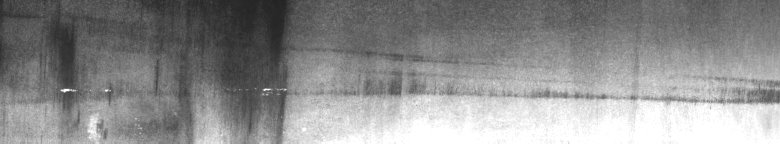hc: (9, 16, 159, 136)
